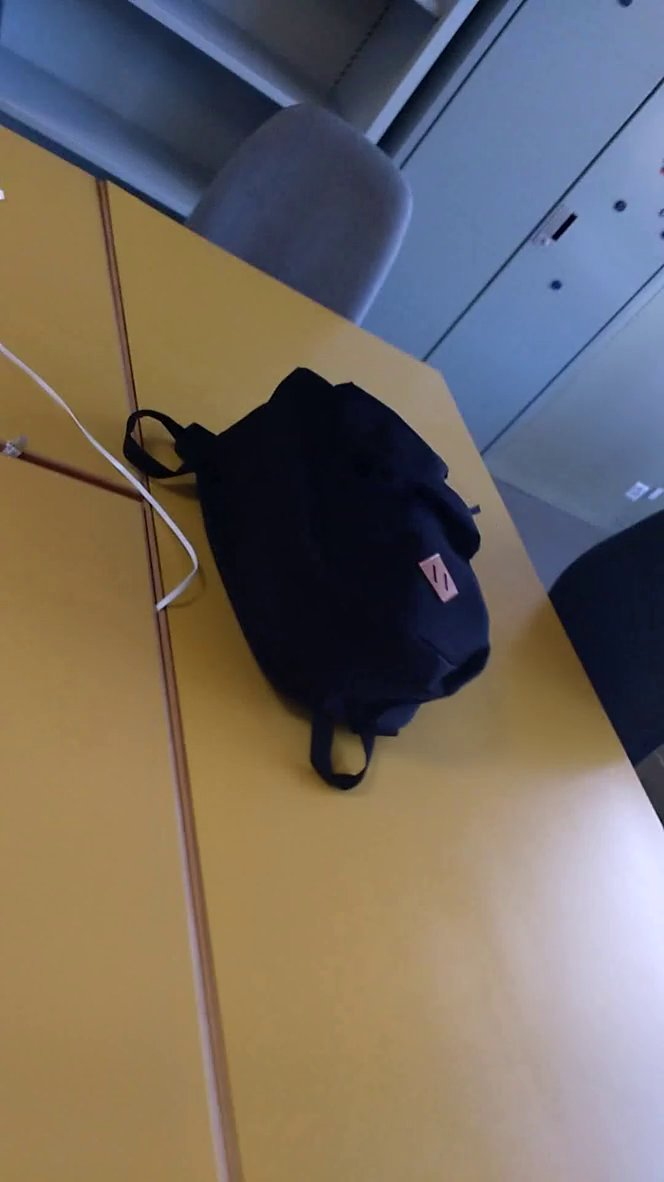bag: (121, 359, 507, 800)
chair: (179, 85, 429, 356)
